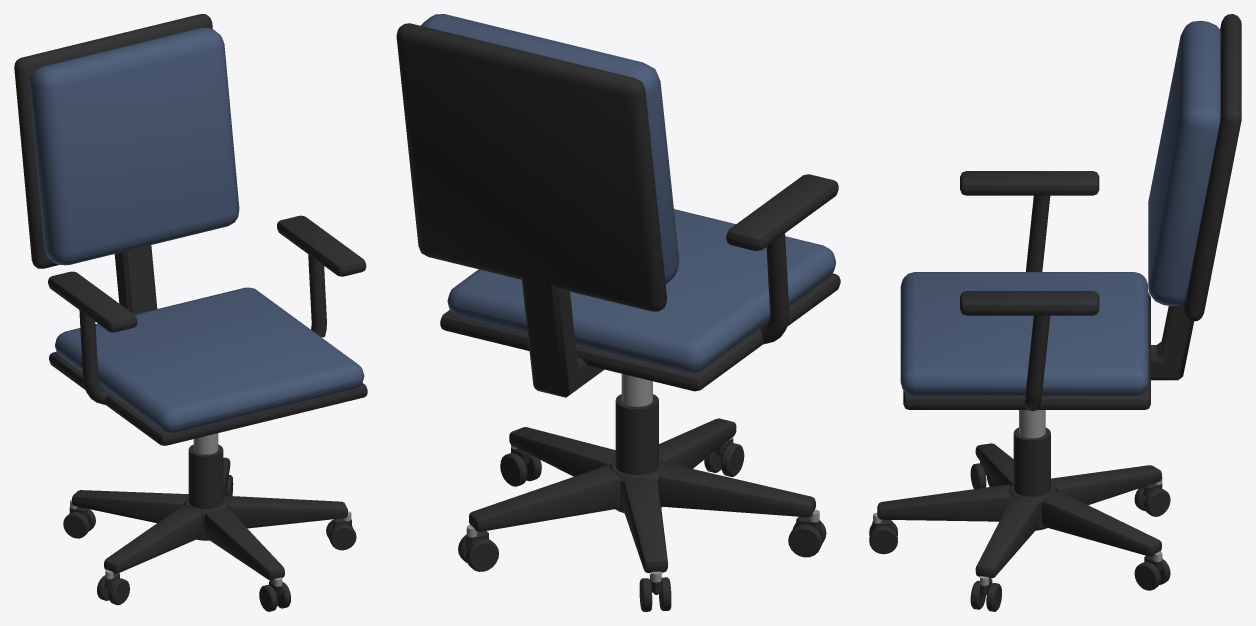
File: OfficeChair.fbx
3 renders of one model, left to right at view 1: azimuth 30°, elevation 25°; view 2: azimuth 150°, elevation 25°; view 3: azimuth 270°, elevation 25°, orthographic. The views are drawn at different scales.
Visible parts, largest first — view 1: OfficeChair_Mesh; view 2: OfficeChair_Mesh; view 3: OfficeChair_Mesh.
Part boxes in pixels (<box>): OfficeChair_Mesh: <box>14,14,367,611</box>; OfficeChair_Mesh: <box>396,14,840,611</box>; OfficeChair_Mesh: <box>869,14,1241,611</box>.
Size of the model in its own units: 0.62 by 1.04 by 0.7219.
